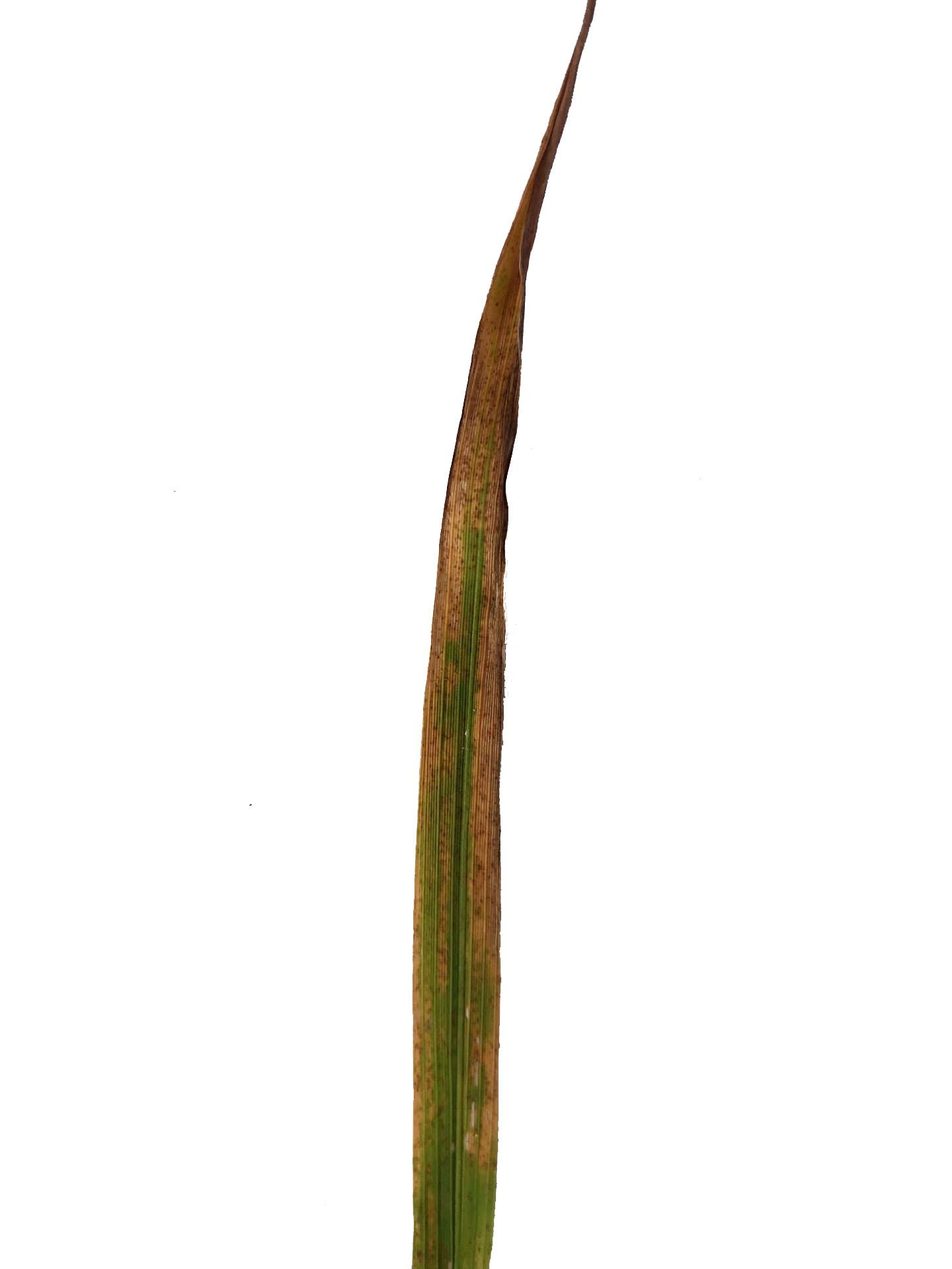Rice blast: (410, 0, 600, 1269)
